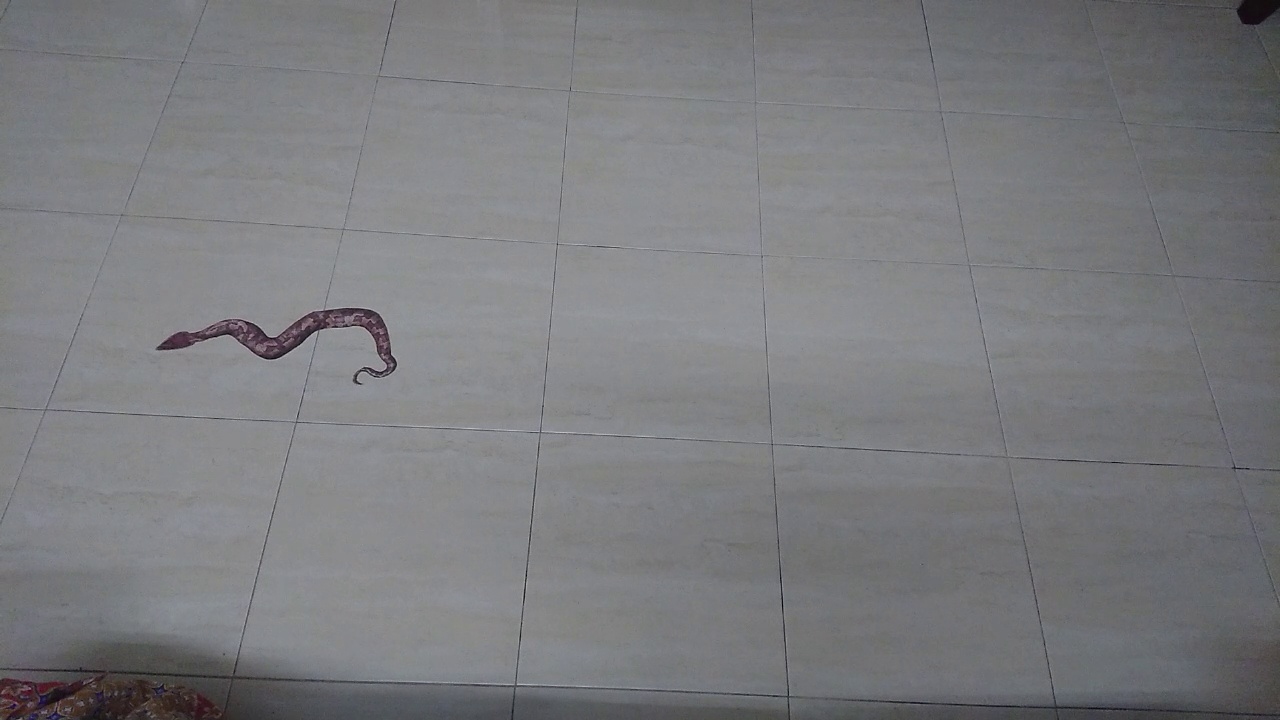snake: (138, 289, 414, 402)
